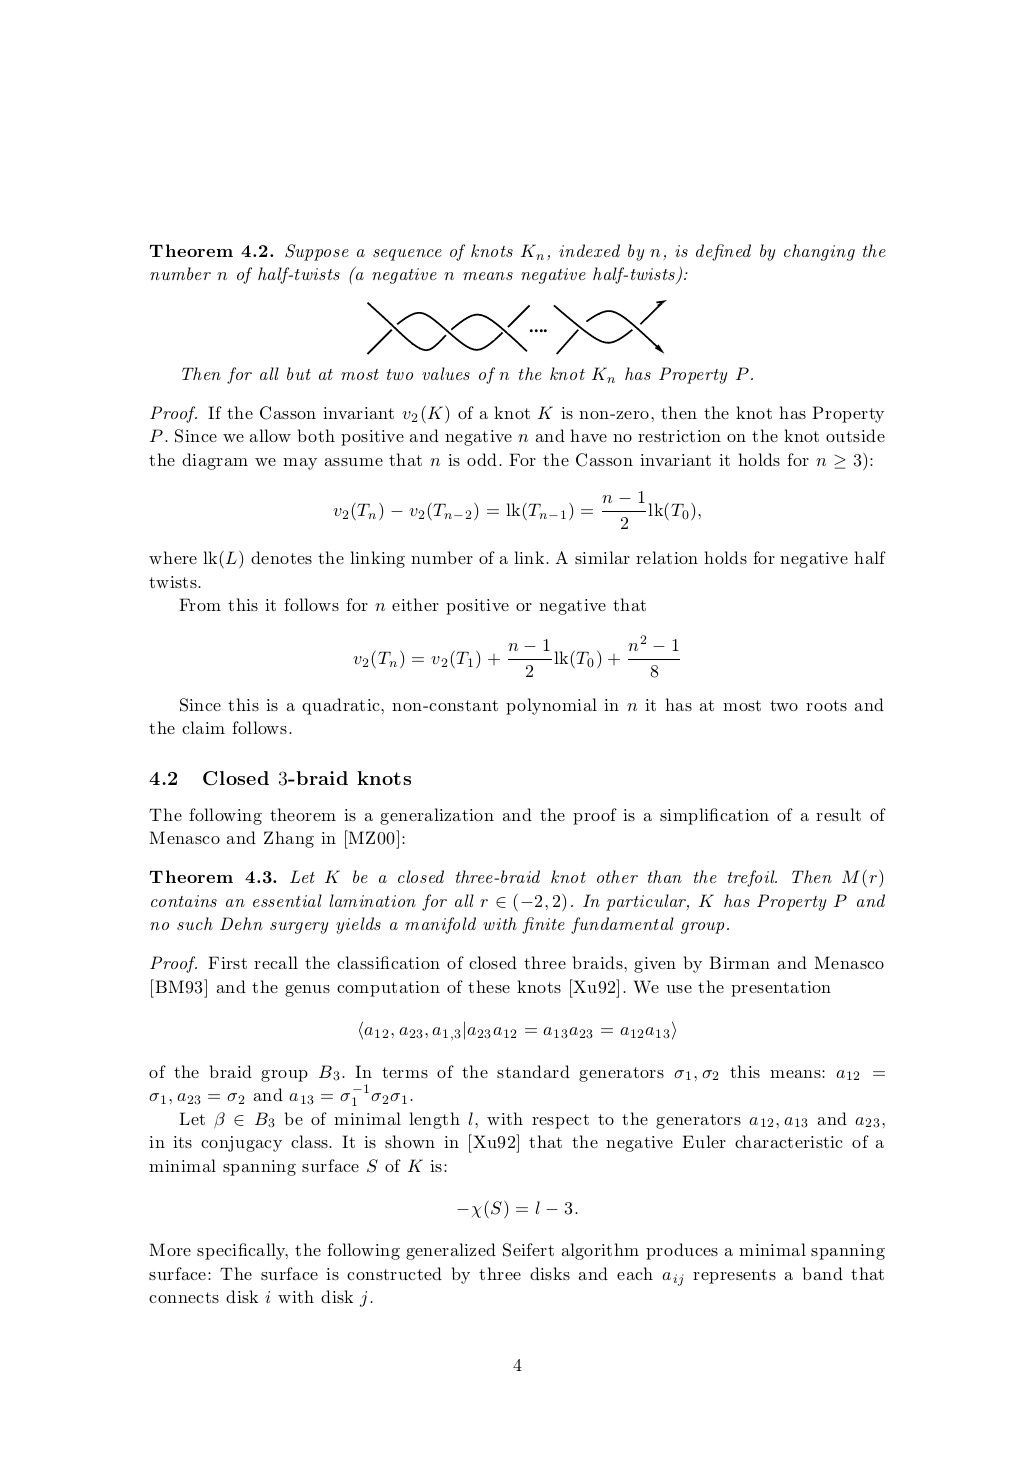figure: (366, 299, 666, 355)
formula: (353, 634, 680, 678), (333, 490, 700, 529), (359, 1020, 675, 1041), (457, 1199, 577, 1219)
